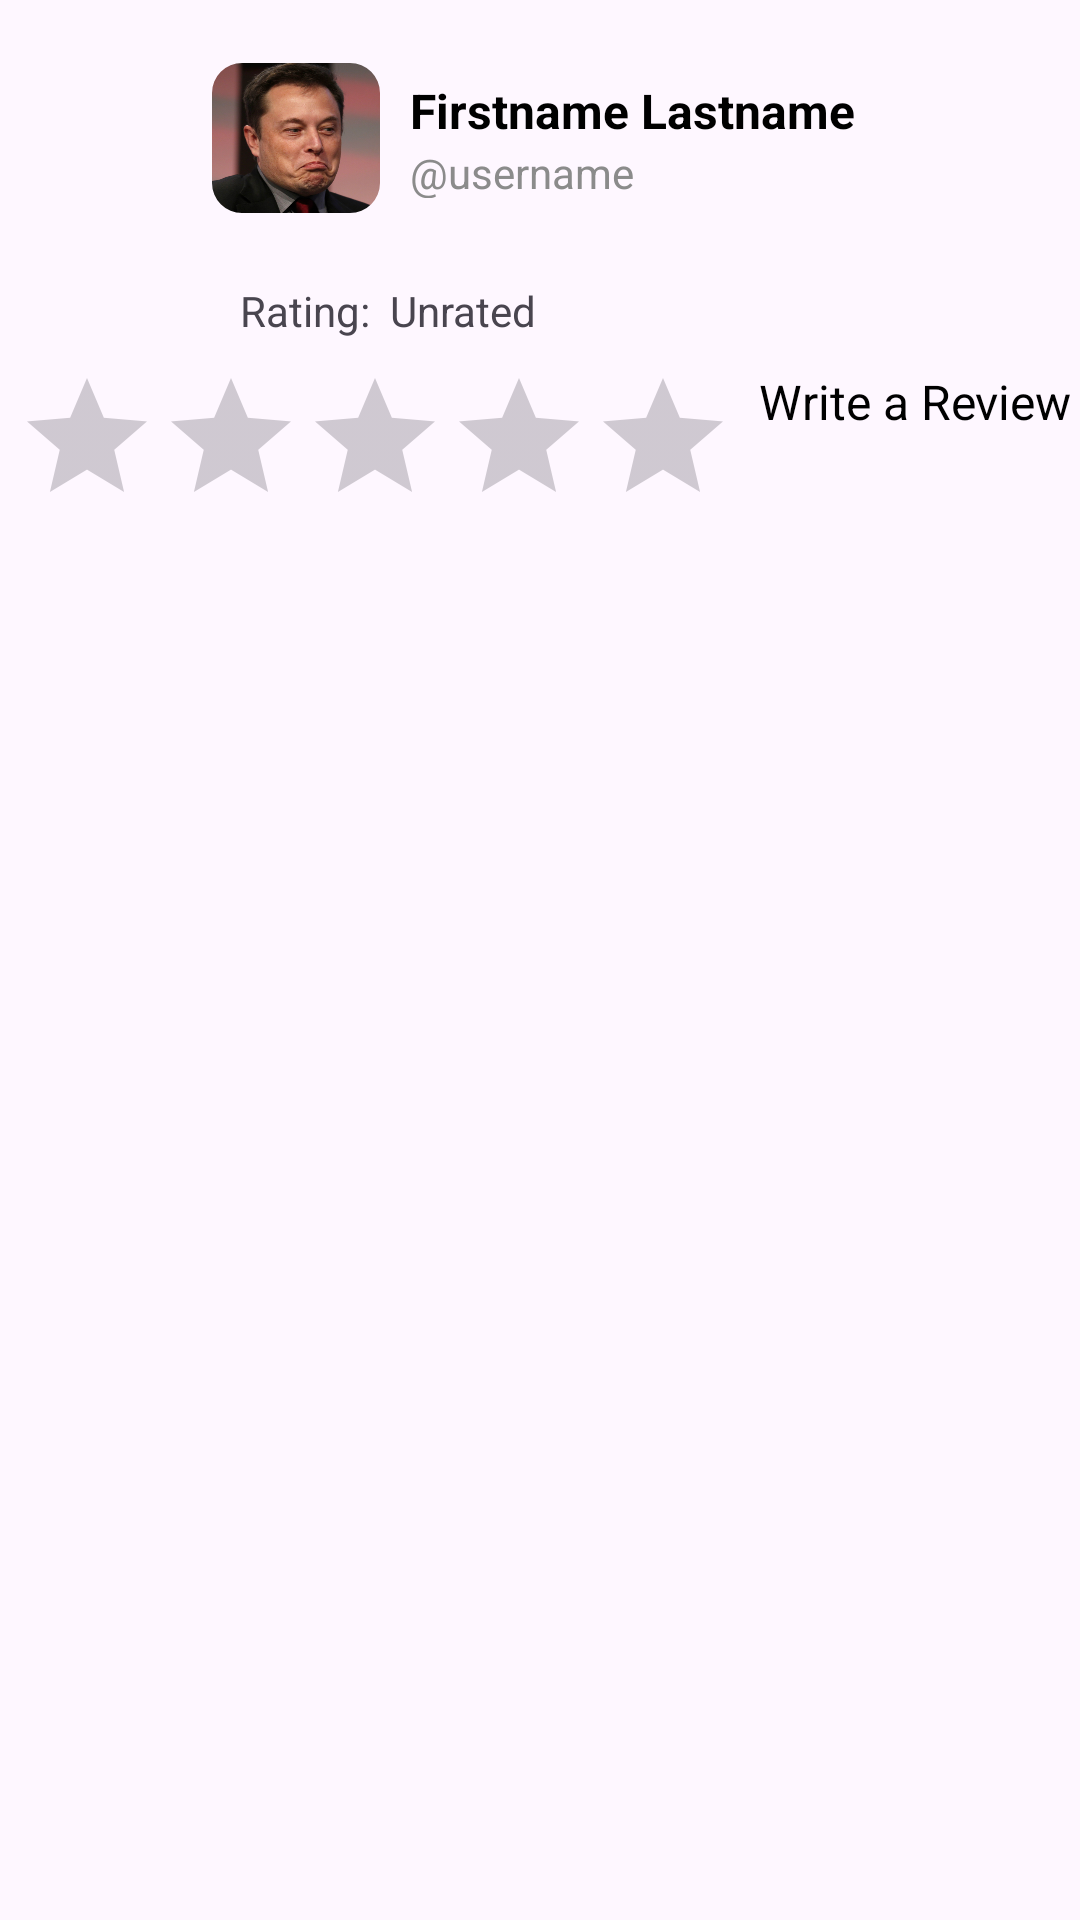

Screen size 1080*1920. Icon name, then its center in pixels as (x,y):
user profile: (296,138)
